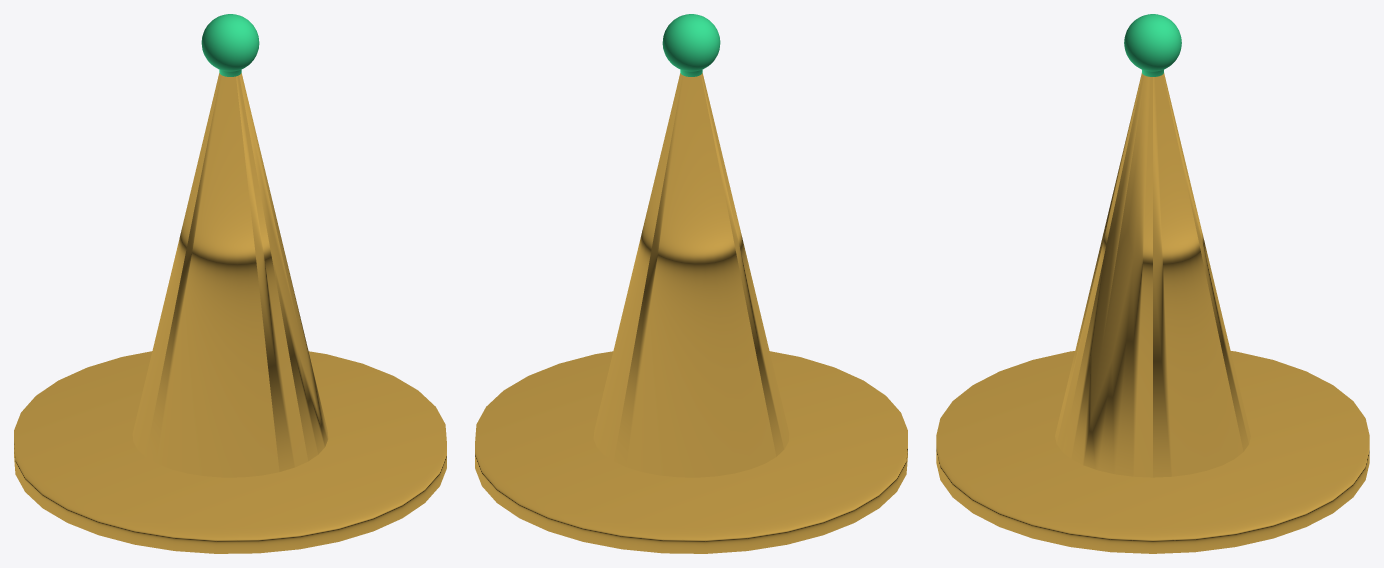
File: Ringspiel_base.fbx
The picture shows the model from 3 angles, left to right: view 1: azimuth 30°, elevation 25°; view 2: azimuth 150°, elevation 25°; view 3: azimuth 270°, elevation 25°; orthographic projection.
Parts seen in each view (by area): view 1: Cylinder; view 2: Cylinder; view 3: Cylinder.
Part boxes in pixels (x1,y1,x2,y2): Cylinder: (14, 14, 446, 553); Cylinder: (475, 14, 907, 553); Cylinder: (936, 14, 1369, 553).
Size of the model in its own units: 300 by 340 by 300.
